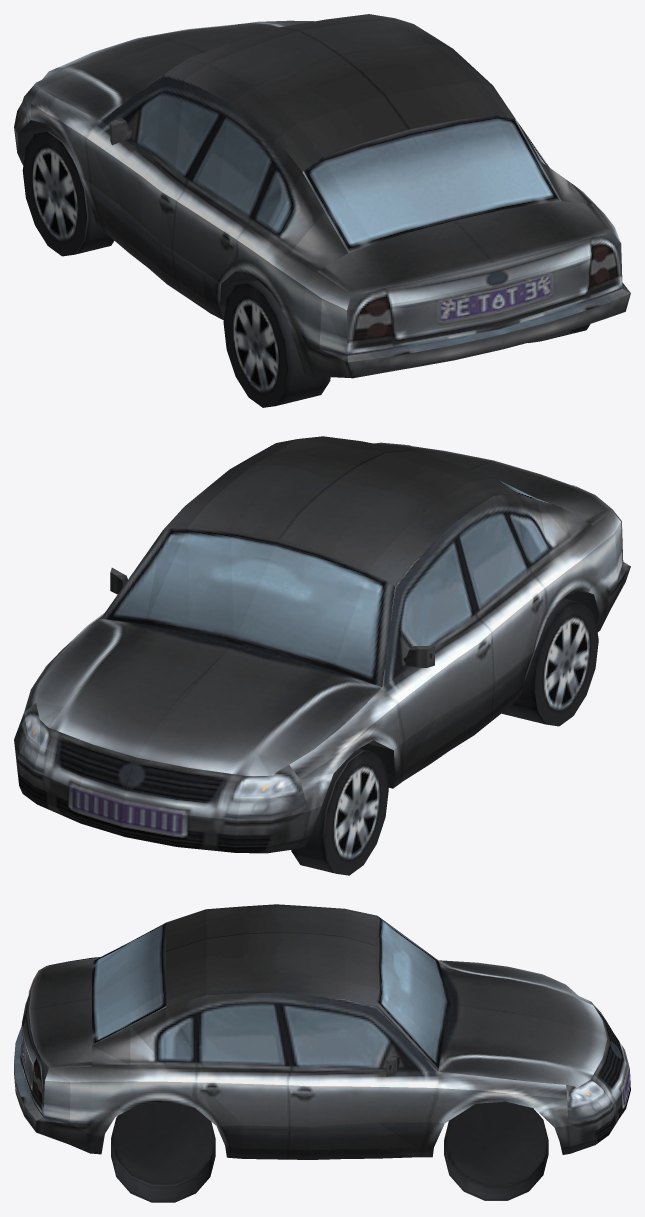
3 renders of one model, top to bottom at view 1: azimuth 30°, elevation 25°; view 2: azimuth 150°, elevation 25°; view 3: azimuth 270°, elevation 25°, orthographic. The views are drawn at different scales.
Visible parts, largest first — view 1: passat, tyre1, tyre3; view 2: passat, tyre3, tyre1; view 3: passat, tyre2, tyre4.
Part boxes in pixels (left/top/right/bottom): passat: left=14, top=14, right=630, bottom=378; tyre1: left=223, top=280, right=330, bottom=407; tyre3: left=22, top=129, right=114, bottom=256; passat: left=14, top=436, right=630, bottom=853; tyre3: left=291, top=748, right=388, bottom=875; tyre1: left=501, top=598, right=598, bottom=726; passat: left=14, top=904, right=630, bottom=1159; tyre2: left=111, top=1101, right=215, bottom=1202; tyre4: left=444, top=1101, right=548, bottom=1200.
Size of the model in its own units: 0.2442 by 0.1859 by 0.498.
Materials: 2 (2 with a texture image).
